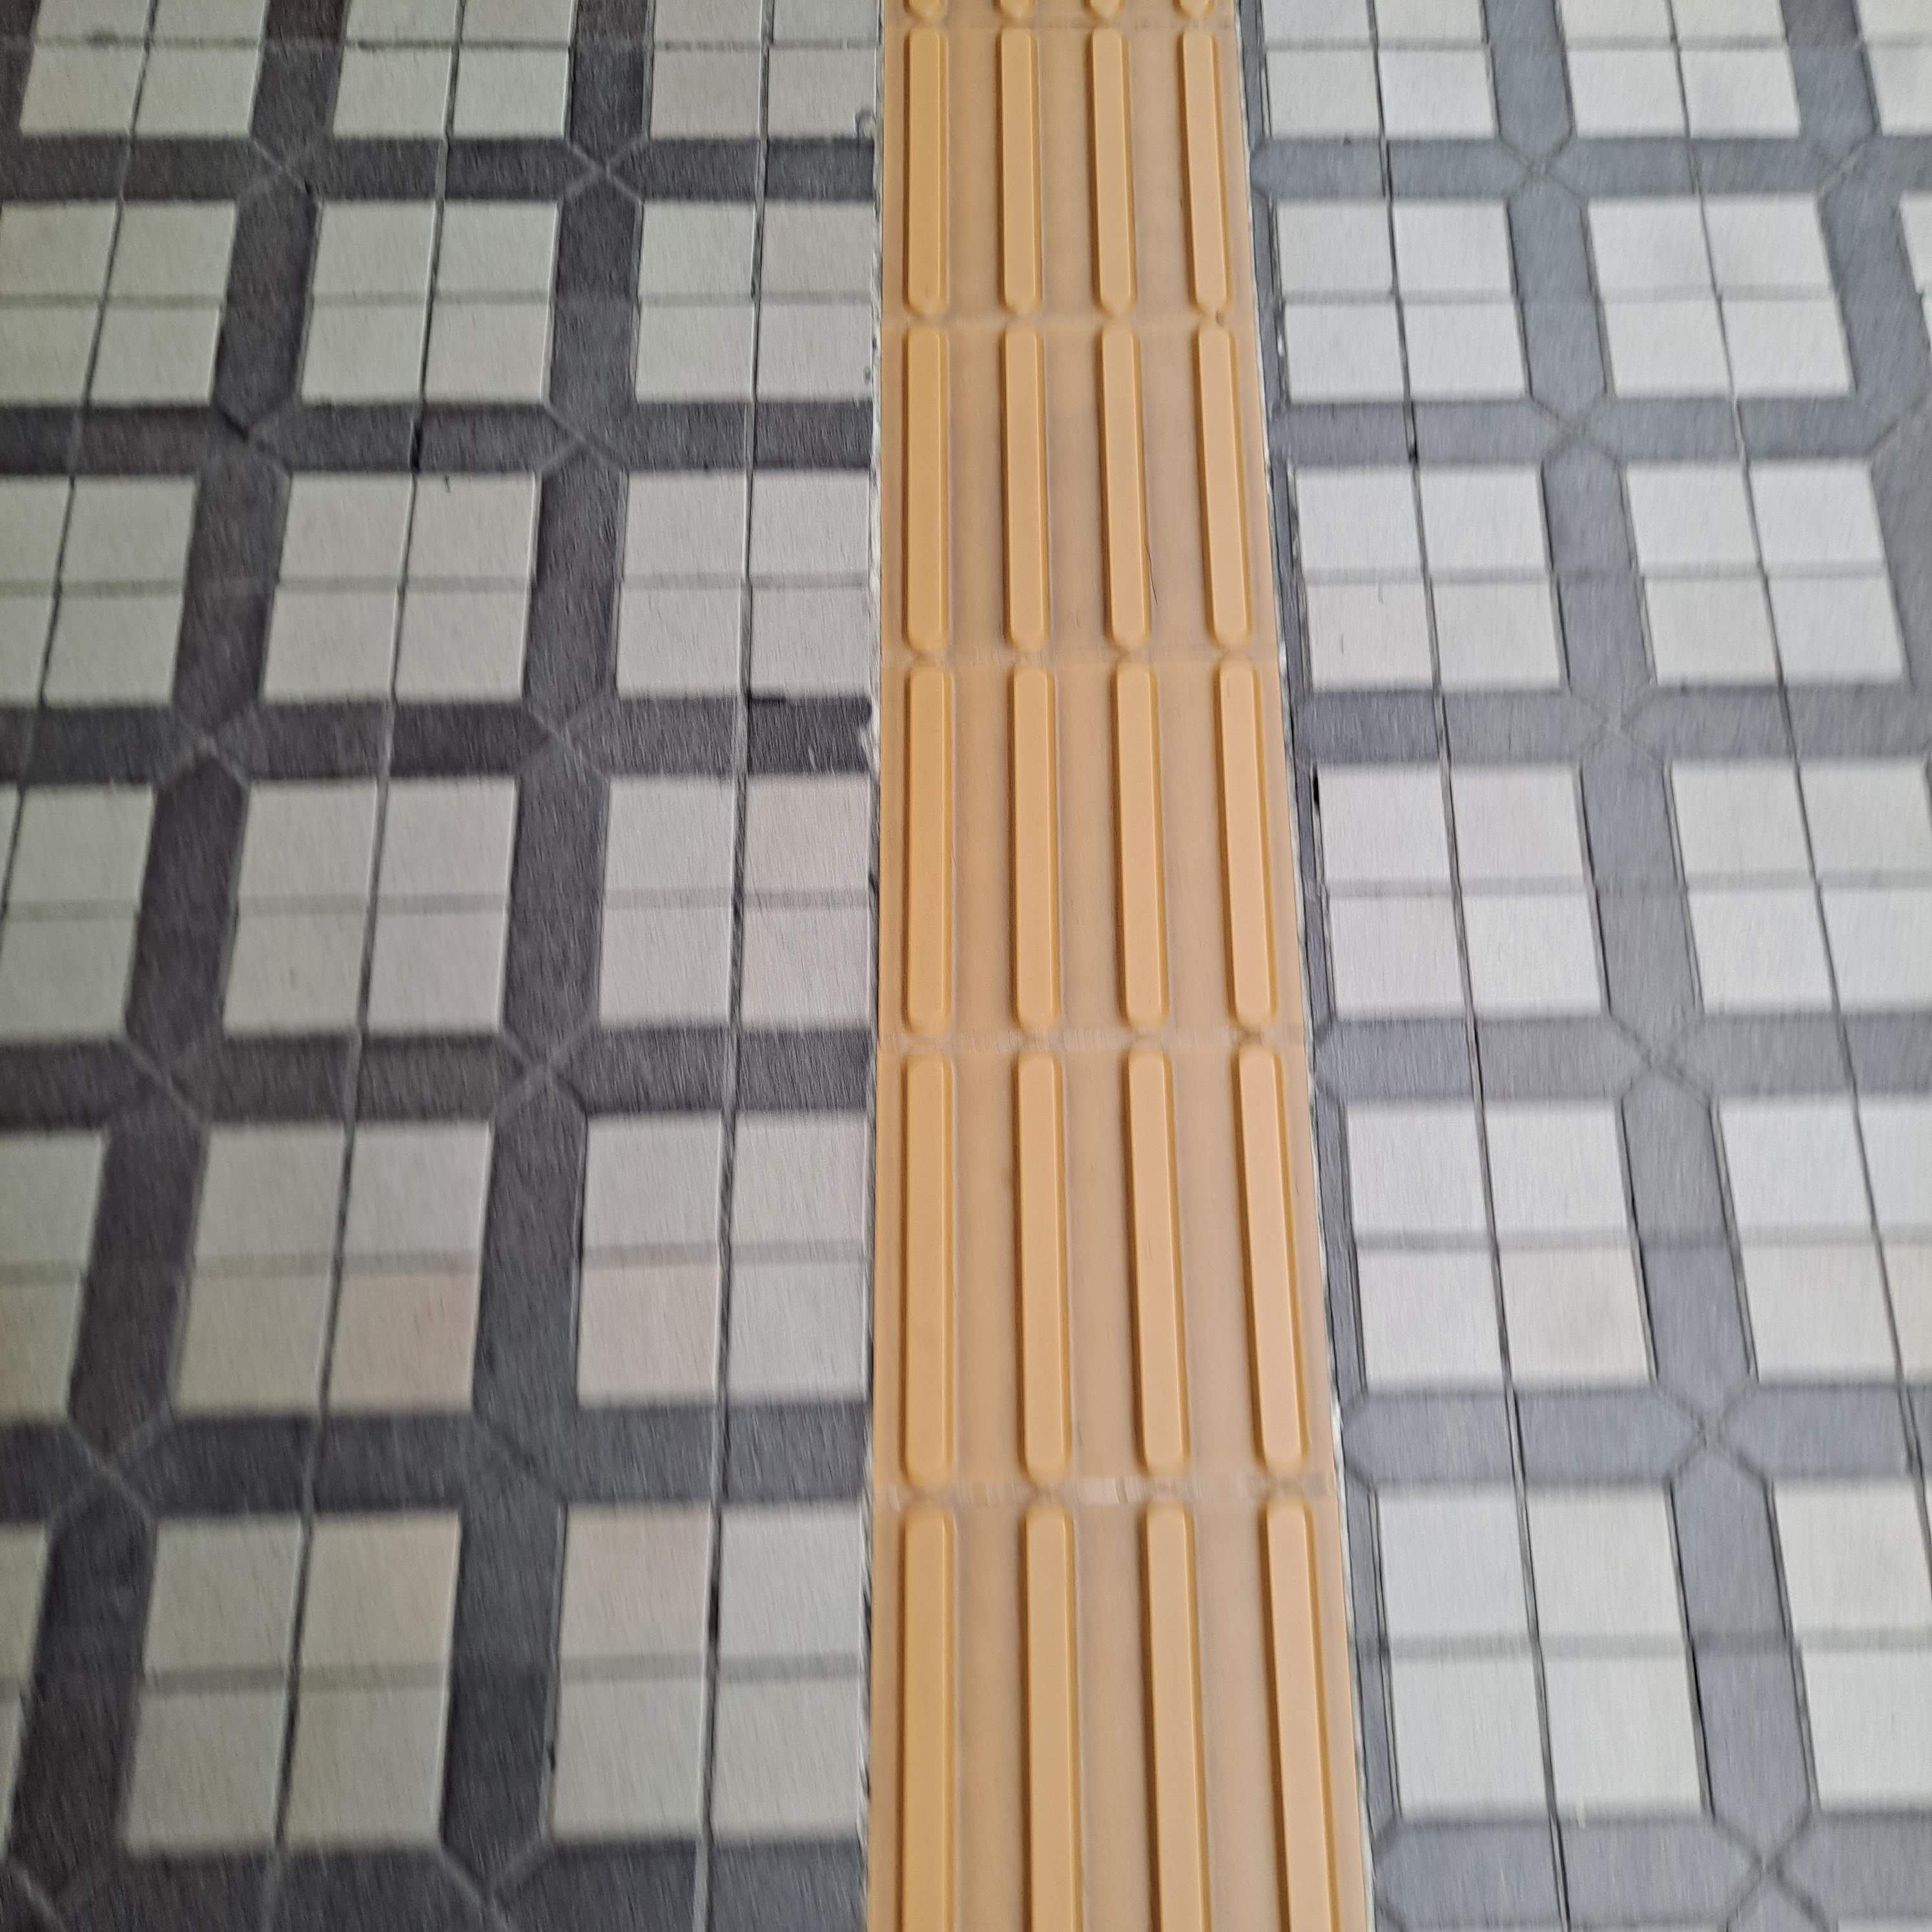guideBlock: (855, 1497, 1373, 1932), (872, 1049, 1343, 1491), (876, 646, 1288, 1060), (855, 303, 1251, 717), (899, 41, 1247, 340)
